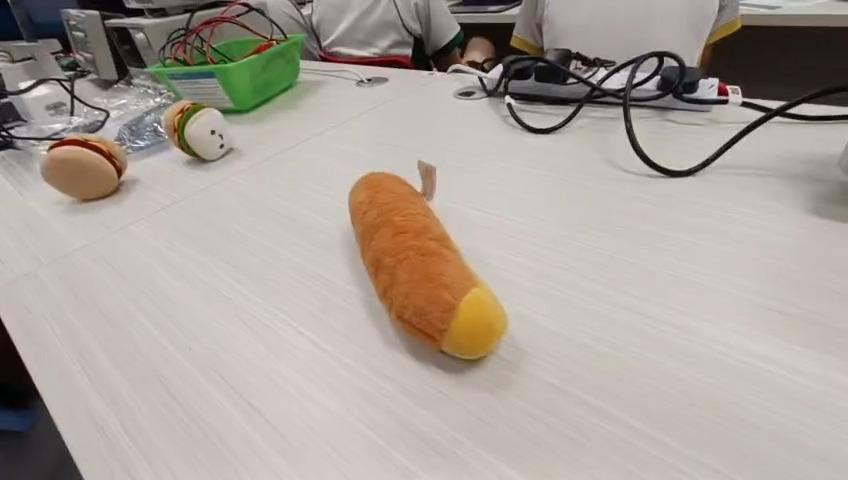hotdog: (347, 170, 508, 361)
